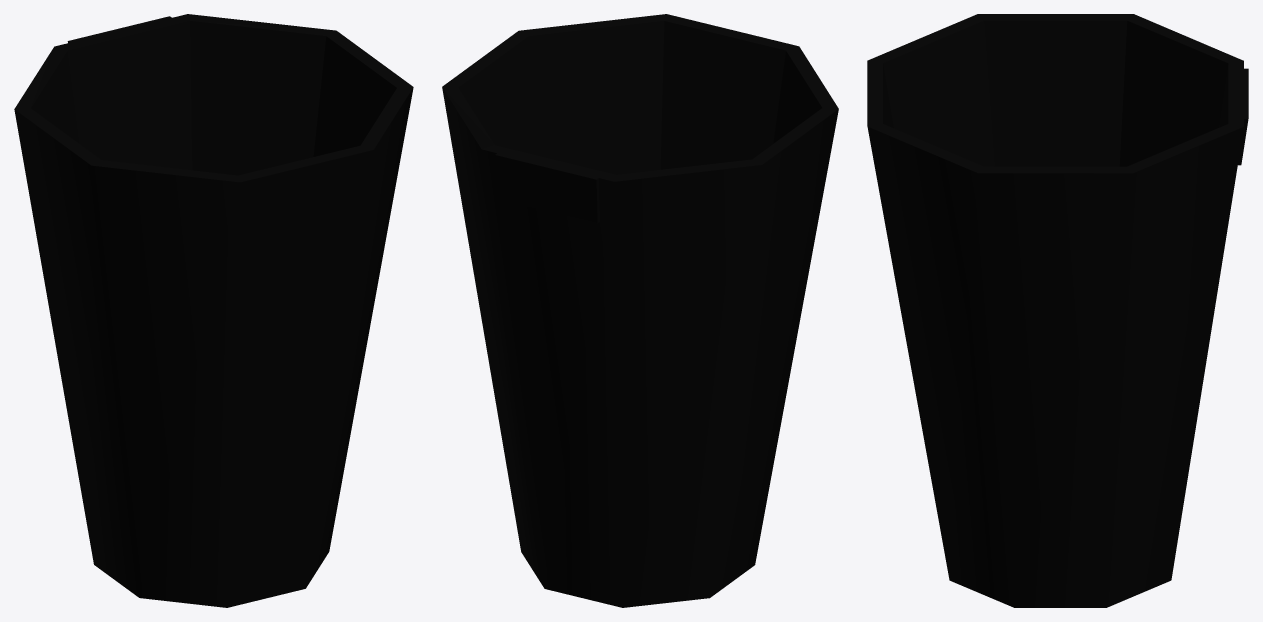
Rendered from Itr_Trashcan3_Body_03.FBX.
The picture shows the model from 3 angles, left to right: view 1: azimuth 30°, elevation 25°; view 2: azimuth 150°, elevation 25°; view 3: azimuth 270°, elevation 25°; orthographic projection.
Visible parts, largest first — view 1: Itr_Trashcan3_Body_03; view 2: Itr_Trashcan3_Body_03; view 3: Itr_Trashcan3_Body_03.
Part boxes in pixels (x1,y1,x2,y2): Itr_Trashcan3_Body_03: (14, 14, 413, 607); Itr_Trashcan3_Body_03: (442, 14, 838, 607); Itr_Trashcan3_Body_03: (867, 14, 1248, 607).
Size of the model in its own units: 13.72 by 18.79 by 13.88.
